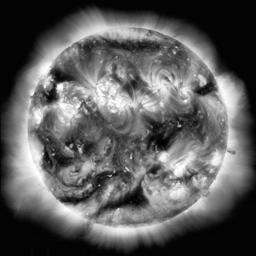solar flares: (89, 80, 132, 116), (150, 77, 193, 100), (56, 83, 76, 124), (131, 96, 152, 115), (173, 160, 189, 179), (171, 184, 187, 202), (34, 106, 49, 125), (209, 150, 221, 169), (194, 70, 206, 88), (157, 152, 171, 164), (186, 152, 198, 160)
sunspots: (100, 37, 155, 53), (112, 184, 147, 205), (147, 121, 167, 153), (184, 110, 201, 132), (88, 174, 116, 185), (193, 86, 216, 98), (52, 72, 75, 84), (44, 85, 57, 103), (49, 150, 66, 163), (42, 150, 51, 167), (84, 144, 96, 156), (67, 196, 90, 202), (66, 139, 80, 147), (149, 165, 158, 175)
